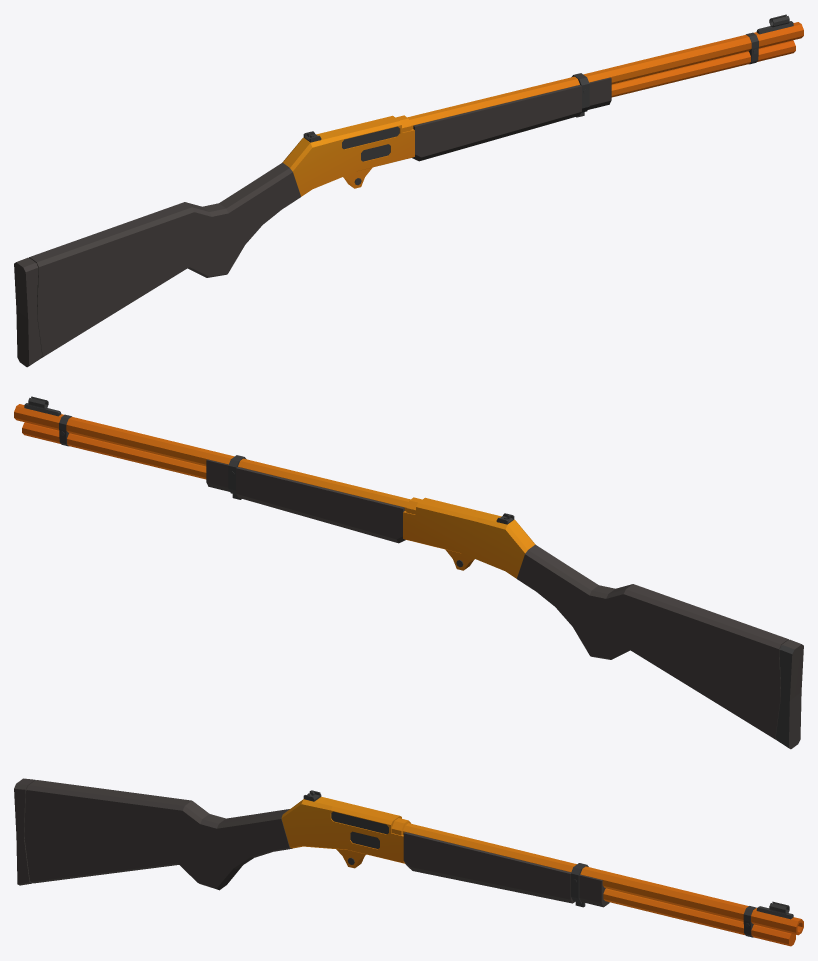
Rendered from SniperRifle5_04.fbx.
3 renders of one model, top to bottom at view 1: azimuth 30°, elevation 25°; view 2: azimuth 150°, elevation 25°; view 3: azimuth 330°, elevation 25°, orthographic.
Parts seen in each view (by area): view 1: SniperRifle5_04; view 2: SniperRifle5_04; view 3: SniperRifle5_04.
Part boxes in pixels (box(x1,y1,x2,y2)): SniperRifle5_04: box(14, 14, 803, 367); SniperRifle5_04: box(14, 396, 803, 749); SniperRifle5_04: box(14, 778, 803, 946).
Size of the model in its own units: 1.15 by 0.2304 by 0.03.
